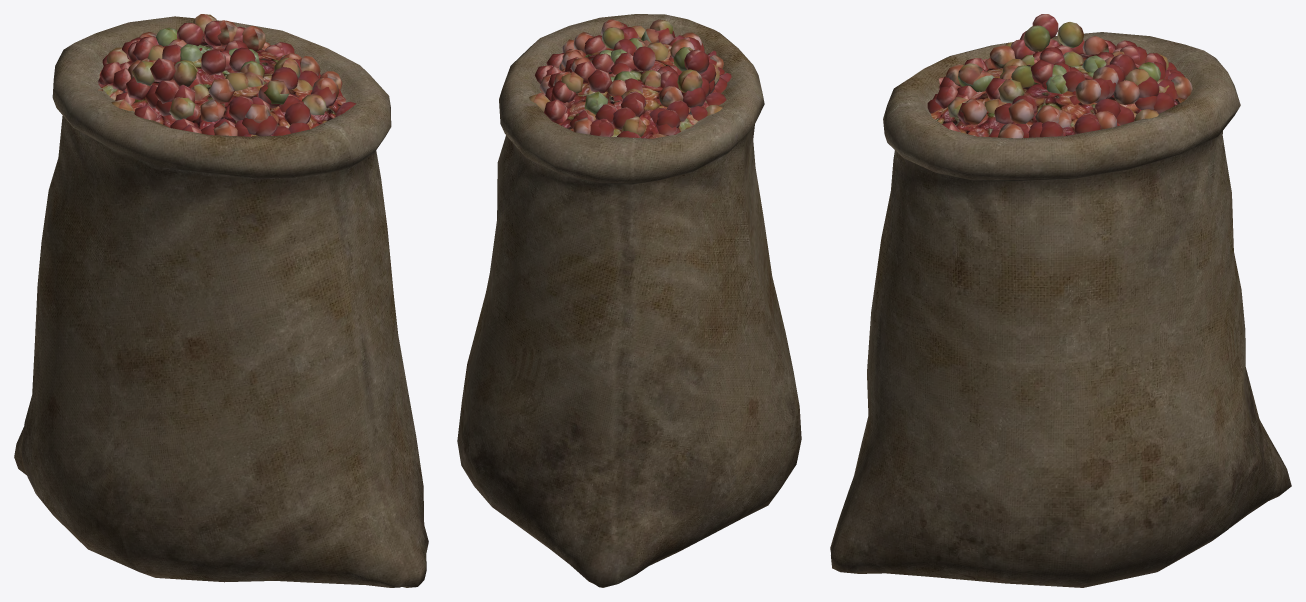
Rendered from Sack_Bag_01.glb.
The picture shows the model from 3 angles, left to right: view 1: azimuth 30°, elevation 25°; view 2: azimuth 150°, elevation 25°; view 3: azimuth 270°, elevation 25°; orthographic projection. The views are drawn at different scales.
Visible parts, largest first — view 1: SM_Sack_Bag_01; view 2: SM_Sack_Bag_01; view 3: SM_Sack_Bag_01.
Boxes of the visible parts, x1,y1,x2,y2 form: SM_Sack_Bag_01: (14, 14, 428, 587); SM_Sack_Bag_01: (457, 14, 801, 587); SM_Sack_Bag_01: (830, 14, 1291, 587).
Size of the model in its own units: 0.605 by 0.8787 by 0.7492.
Materials: 2 (2 with a texture image).
